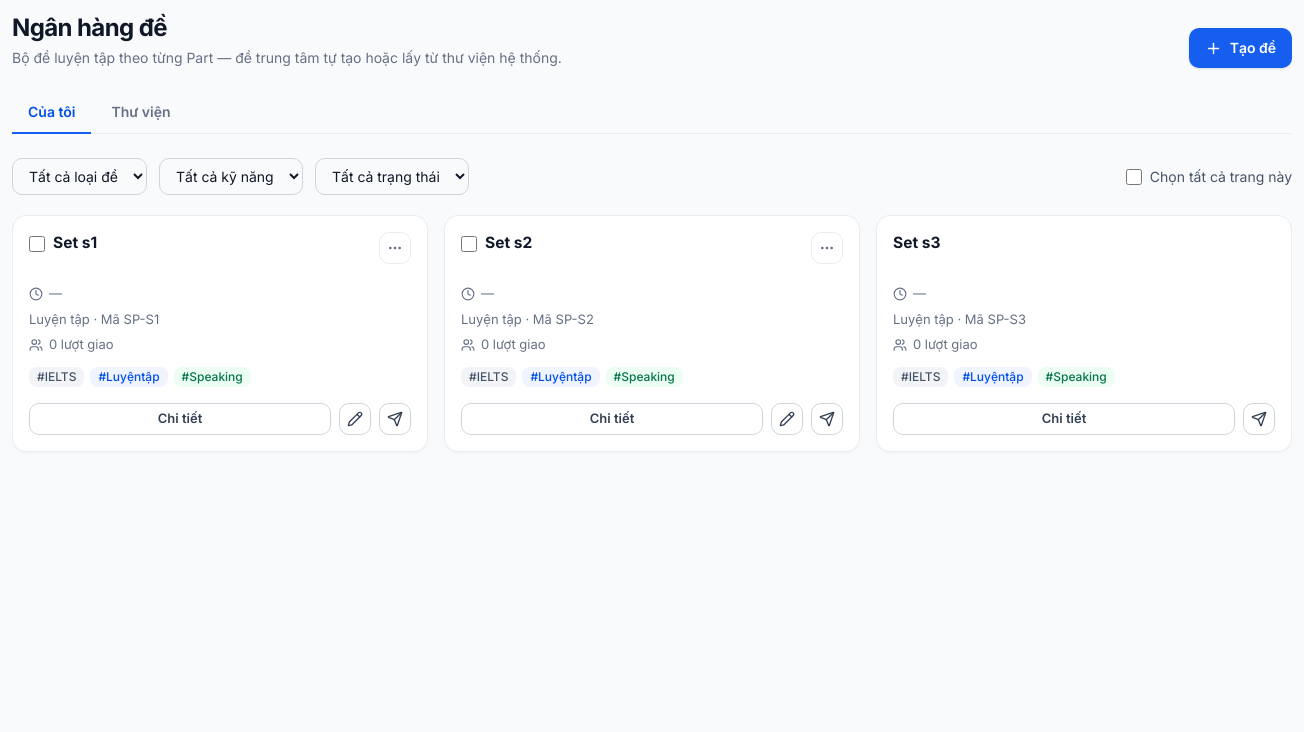
Test case: BanksPage lifecycle actions › clears the selection when a filter changes
Expected: the element with test id "bank-card-s1" is shown, [12, 215, 428, 452]
Click the checkbox with test id "bank-select-s1" at [37, 244], box [29, 236, 45, 252]
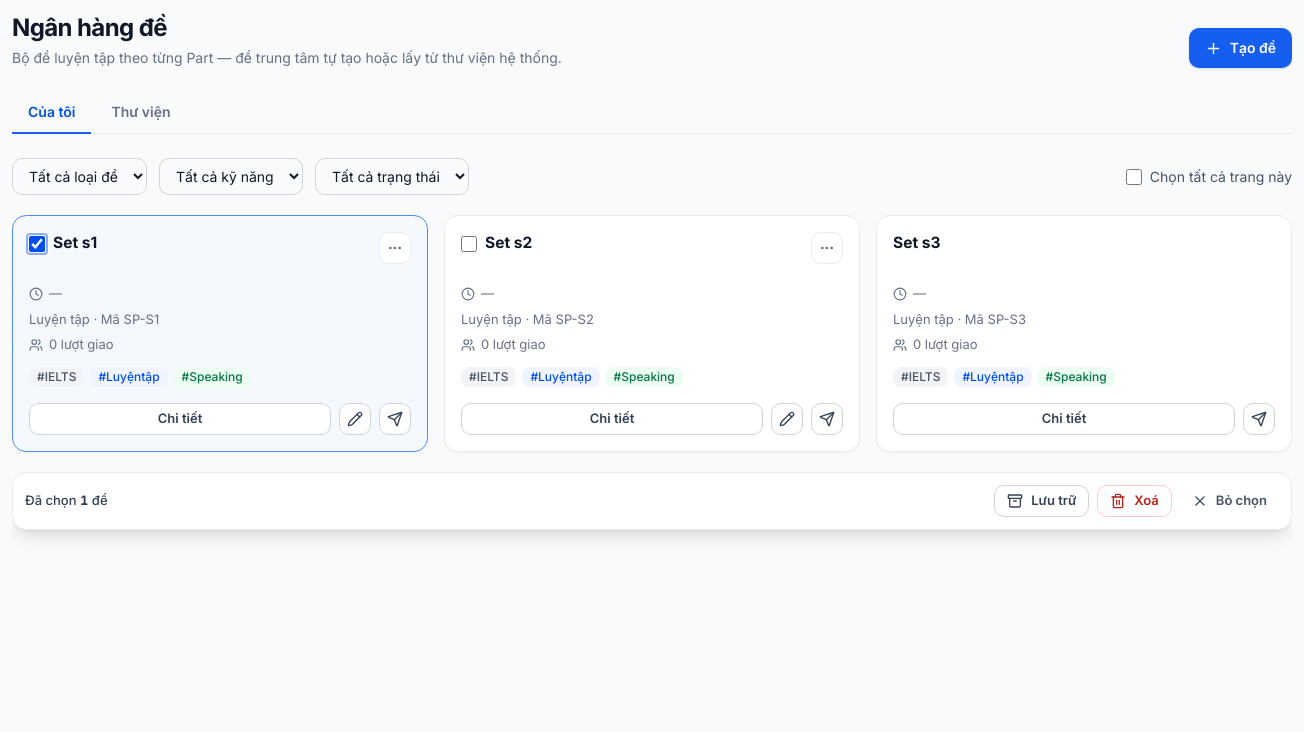
Expected: the element with test id "set-bulk-bar" is shown, [12, 472, 1292, 530]
Select "Writing" in the dropdown with test id "filter-skill" at [231, 176], box [159, 158, 303, 195]
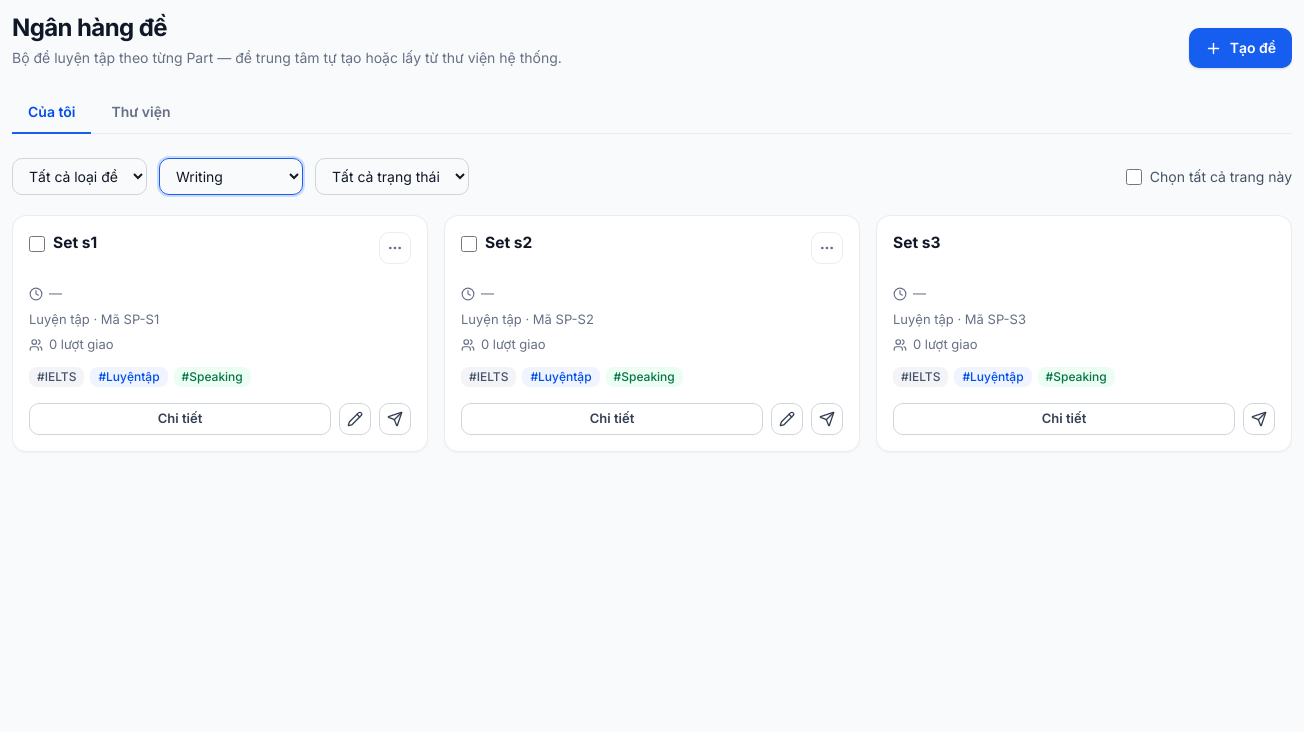
Expected: the element with test id "set-bulk-bar" is gone
